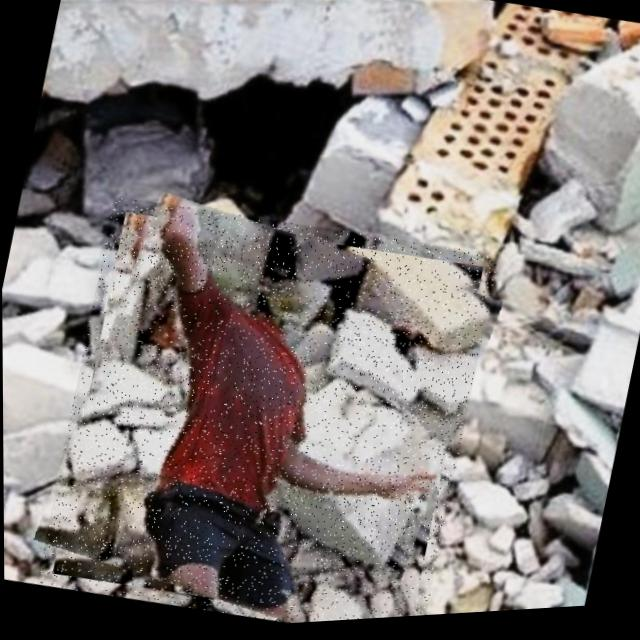Person in Rubble: (32, 179, 500, 639)
